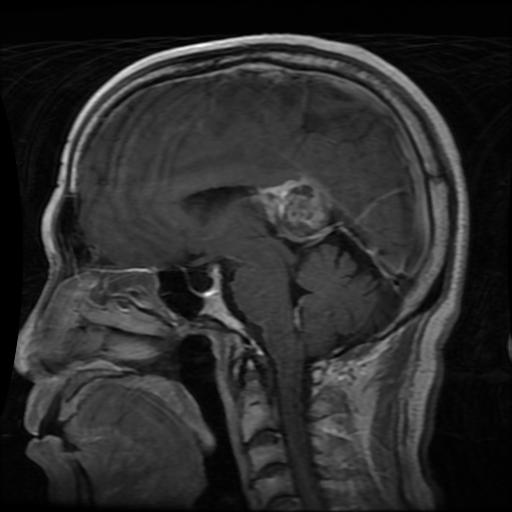Gliomia_tumour: (251, 174, 333, 246)
